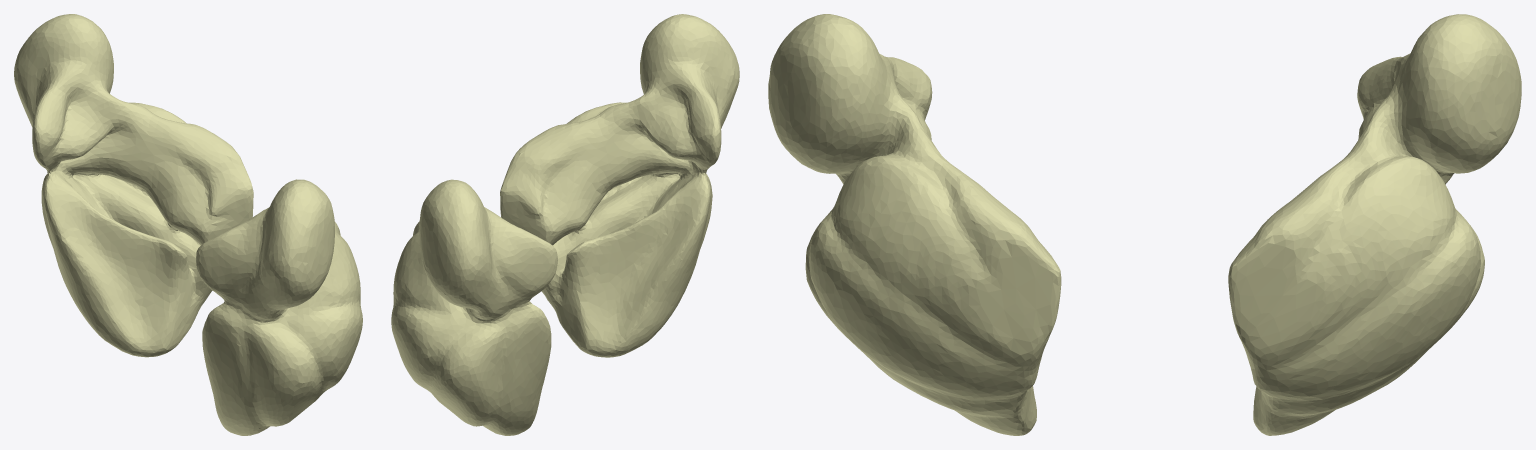
The picture shows the model from 3 angles, left to right: view 1: azimuth 30°, elevation 25°; view 2: azimuth 150°, elevation 25°; view 3: azimuth 270°, elevation 25°; orthographic projection. The views are drawn at different scales.
Visible parts, largest first — view 1: 1073.obj; view 2: 1073.obj; view 3: 1073.obj.
Part boxes in pixels (x1,y1,x2,y2): 1073.obj: (14,14,362,435); 1073.obj: (391,14,739,435); 1073.obj: (768,14,1521,435).
Bounding box in the file's own units: 3315 × 5476 × 9264.
